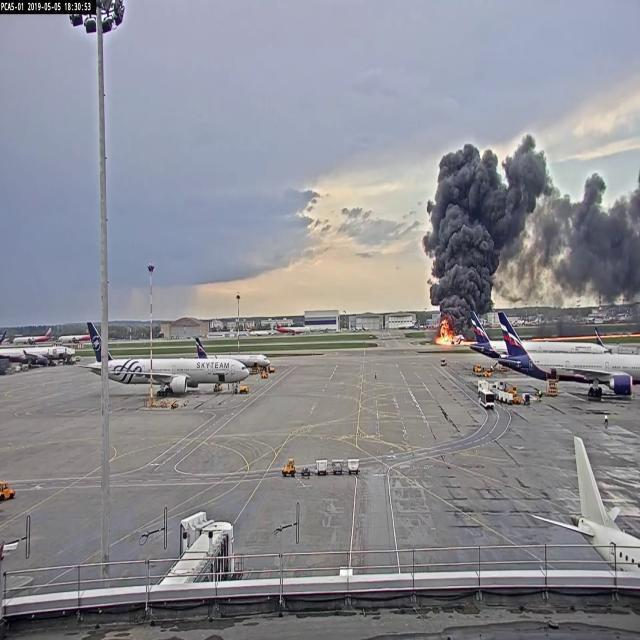Fire: (437, 316, 455, 349)
Smoke: (430, 140, 496, 317)
